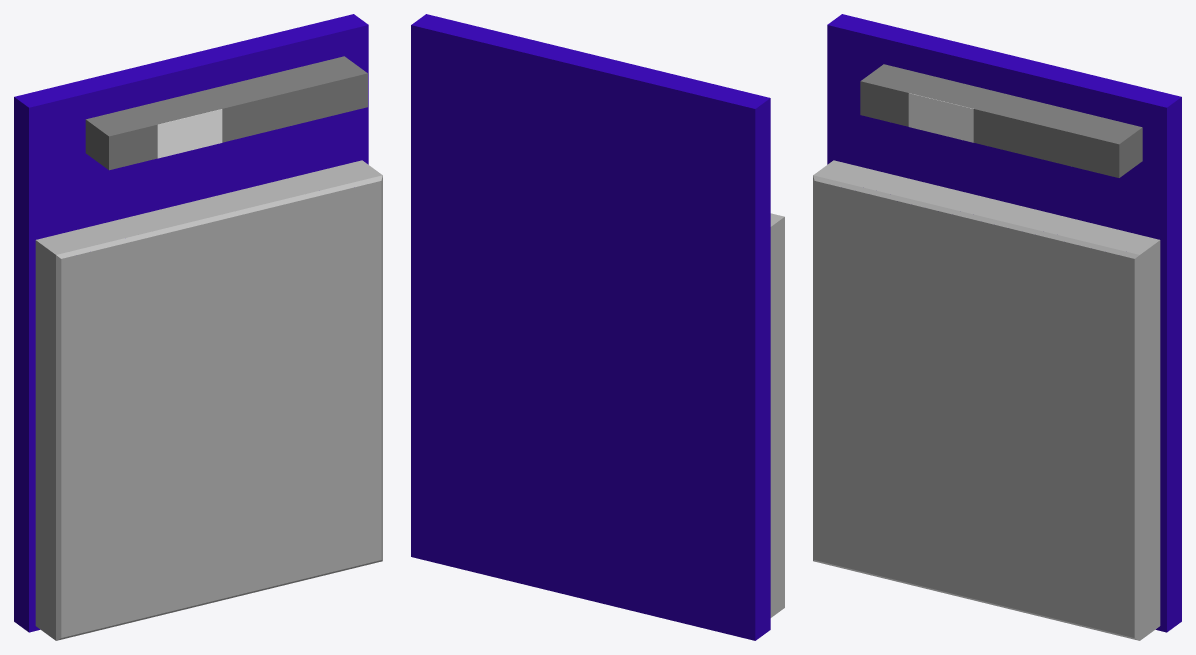
Rendered from Raytac_MDBT50Q.glb.
3 renders of one model, left to right at view 1: azimuth 30°, elevation 25°; view 2: azimuth 150°, elevation 25°; view 3: azimuth 330°, elevation 25°, orthographic.
Parts seen in each view (by area): view 1: Shape_IndexedFaceSet.025, Shape_IndexedFaceSet.005, Shape_IndexedFaceSet.019, Shape_IndexedFaceSet.003, Shape_IndexedFaceSet.023, Shape_IndexedFaceSet.017, Shape_IndexedFaceSet.012, Shape_IndexedFaceSet.002, Shape_IndexedFaceSet.024, Shape_IndexedFaceSet.011, Shape_IndexedFaceSet.027, Shape_IndexedFaceSet.015 (+2 smaller); view 2: Shape_IndexedFaceSet.004, Shape_IndexedFaceSet.003, Shape_IndexedFaceSet.019, Shape_IndexedFaceSet.002; view 3: Shape_IndexedFaceSet.025, Shape_IndexedFaceSet.005, Shape_IndexedFaceSet.022, Shape_IndexedFaceSet.001, Shape_IndexedFaceSet.023, Shape_IndexedFaceSet.017, Shape_IndexedFaceSet.012, Shape_IndexedFaceSet.002, Shape_IndexedFaceSet.026, Shape_IndexedFaceSet.011, Shape_IndexedFaceSet.027, Shape_IndexedFaceSet.013 (+2 smaller).
Part boxes in pixels (x1,y1,x2,y2): Shape_IndexedFaceSet.025: [61, 181, 381, 637]; Shape_IndexedFaceSet.005: [29, 25, 368, 632]; Shape_IndexedFaceSet.019: [35, 240, 55, 640]; Shape_IndexedFaceSet.003: [14, 97, 28, 632]; Shape_IndexedFaceSet.023: [36, 160, 382, 254]; Shape_IndexedFaceSet.017: [109, 73, 367, 170]; Shape_IndexedFaceSet.012: [86, 56, 367, 136]; Shape_IndexedFaceSet.002: [14, 14, 368, 107]; Shape_IndexedFaceSet.024: [56, 255, 61, 640]; Shape_IndexedFaceSet.011: [157, 109, 222, 158]; Shape_IndexedFaceSet.027: [56, 175, 382, 258]; Shape_IndexedFaceSet.015: [85, 120, 108, 169]; Shape_IndexedFaceSet.004: [411, 25, 755, 640]; Shape_IndexedFaceSet.003: [755, 98, 770, 640]; Shape_IndexedFaceSet.019: [770, 217, 784, 617]; Shape_IndexedFaceSet.002: [411, 14, 769, 108]; Shape_IndexedFaceSet.025: [814, 181, 1134, 637]; Shape_IndexedFaceSet.005: [827, 25, 1166, 632]; Shape_IndexedFaceSet.022: [1140, 240, 1160, 640]; Shape_IndexedFaceSet.001: [1167, 97, 1181, 632]; Shape_IndexedFaceSet.023: [813, 160, 1159, 254]; Shape_IndexedFaceSet.017: [860, 81, 1119, 177]; Shape_IndexedFaceSet.012: [861, 64, 1141, 144]; Shape_IndexedFaceSet.002: [827, 14, 1181, 107]; Shape_IndexedFaceSet.026: [1134, 255, 1139, 640]; Shape_IndexedFaceSet.011: [908, 93, 973, 142]; Shape_IndexedFaceSet.027: [813, 175, 1139, 258]; Shape_IndexedFaceSet.013: [1119, 127, 1142, 177].
Bounding box in the file's own units: 4.13 × 6.1 × 0.811.
